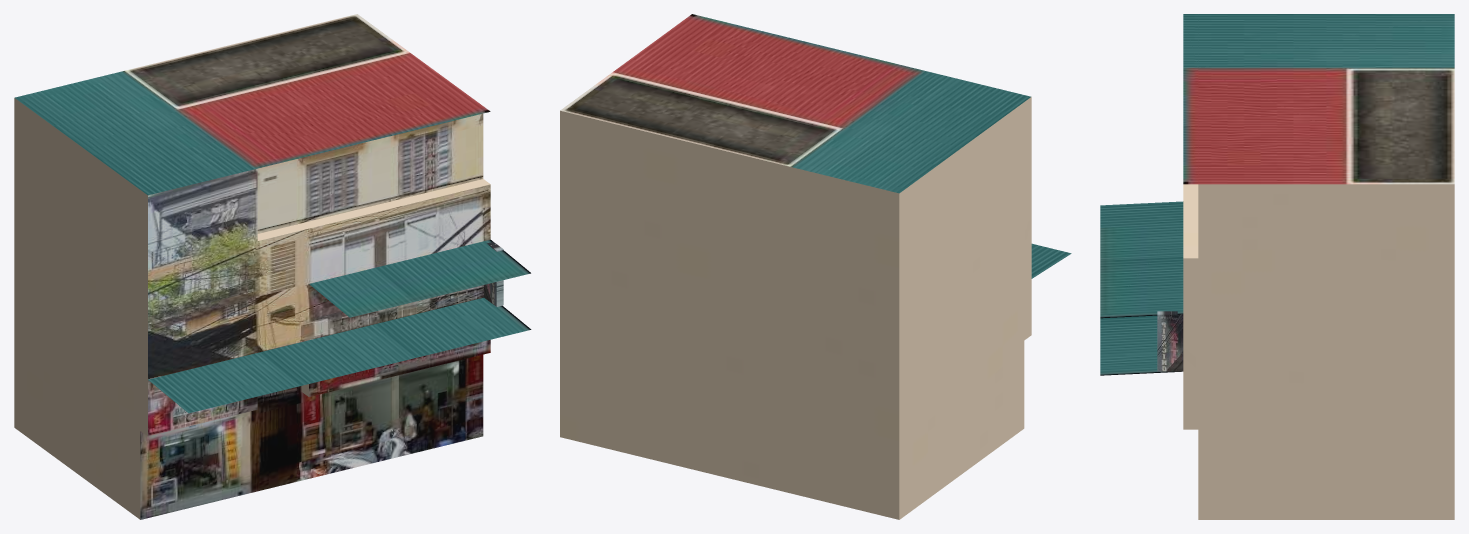
3 views of the same model, side by side, from view 1: azimuth 30°, elevation 25°; view 2: azimuth 150°, elevation 25°; view 3: azimuth 270°, elevation 25° (orthographic). The views are drawn at different scales.
Parts seen in each view (by area): view 1: HN905___Banh_Mi_Co_Nga; view 2: HN905___Banh_Mi_Co_Nga; view 3: HN905___Banh_Mi_Co_Nga.
Boxes of the visible parts, x1,y1,x2,y2 form: HN905___Banh_Mi_Co_Nga: (14, 14, 531, 519); HN905___Banh_Mi_Co_Nga: (560, 14, 1071, 519); HN905___Banh_Mi_Co_Nga: (1100, 14, 1454, 519).
Size of the model in its own units: 10 by 9.19 by 8.8.
Materials: 1 (1 with a texture image).
